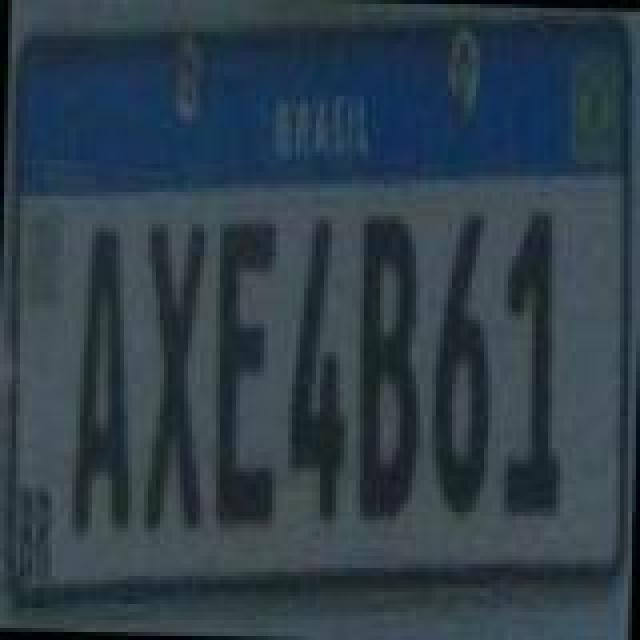1: (498, 204, 574, 532)
4: (284, 212, 356, 524)
6: (428, 208, 500, 528)
A: (68, 226, 140, 542)
B: (354, 208, 430, 528)
E: (210, 222, 286, 530)
X: (140, 214, 212, 538)
